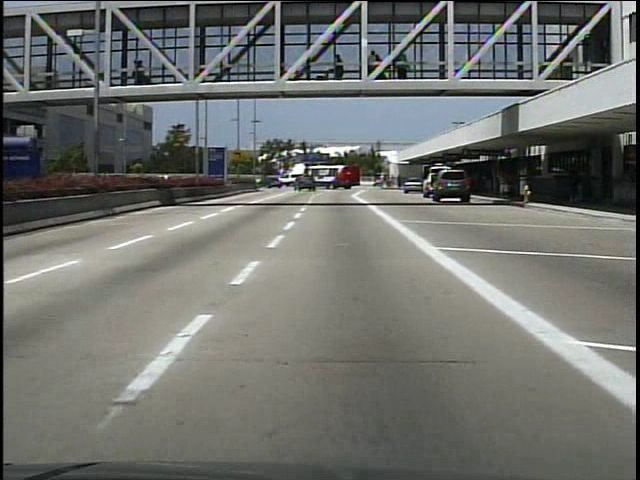person: (132, 57, 154, 88), (329, 51, 350, 83), (496, 166, 515, 201)
